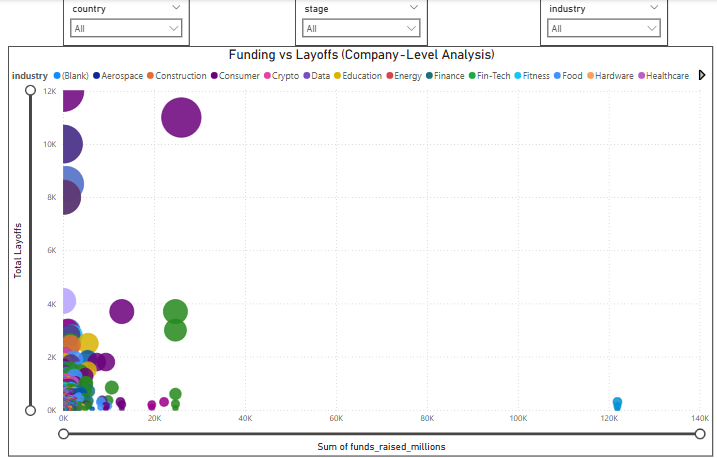

What the dashboard file says about the page in this screenshot:
{"tool":"powerbi","page":{"name":"Scatter Analysis","canvas":[1280,720],"ordinal":1},"visuals":[{"type":"scatterChart","title":"Funding vs Layoffs (Company-Level Analysis)","fields":{"Y":["layoffs_data_analysis layoffs_cleaned.Total Layoffs"],"X":["Sum(layoffs_data_analysis layoffs_cleaned.funds_raised_millions)"],"Category":["layoffs_data_analysis layoffs_cleaned.Row_ID"],"Size":["layoffs_data_analysis layoffs_cleaned.Total Layoffs"],"Series":["layoffs_data_analysis layoffs_cleaned.industry"]},"box":[141.1,68.9,1036.4,603],"z":0},{"type":"slicer","fields":{"Values":["layoffs_data_analysis layoffs_cleaned.country"]},"box":[221.7,0,186.5,68.9],"z":1},{"type":"slicer","fields":{"Values":["layoffs_data_analysis layoffs_cleaned.stage"]},"box":[562.7,0,194.9,68.9],"z":2},{"type":"slicer","fields":{"Values":["layoffs_data_analysis layoffs_cleaned.industry"]},"box":[922.2,0,188.1,68.9],"z":3}]}

Visuals, with their boxes on the page's 1280x720 design canvas (x1, y1, x2, y2). These are canvas units, not pixel positions in the 717x458 screenshot, which may show the page scaled, cropped or inside an application window:
"Funding vs Layoffs (Company-Level Analysis)" scatterChart: (141,69,1178,672)
slicer - layoffs_data_analysis layoffs_cleaned.country: (222,0,408,69)
slicer - layoffs_data_analysis layoffs_cleaned.stage: (563,0,758,69)
slicer - layoffs_data_analysis layoffs_cleaned.industry: (922,0,1110,69)
